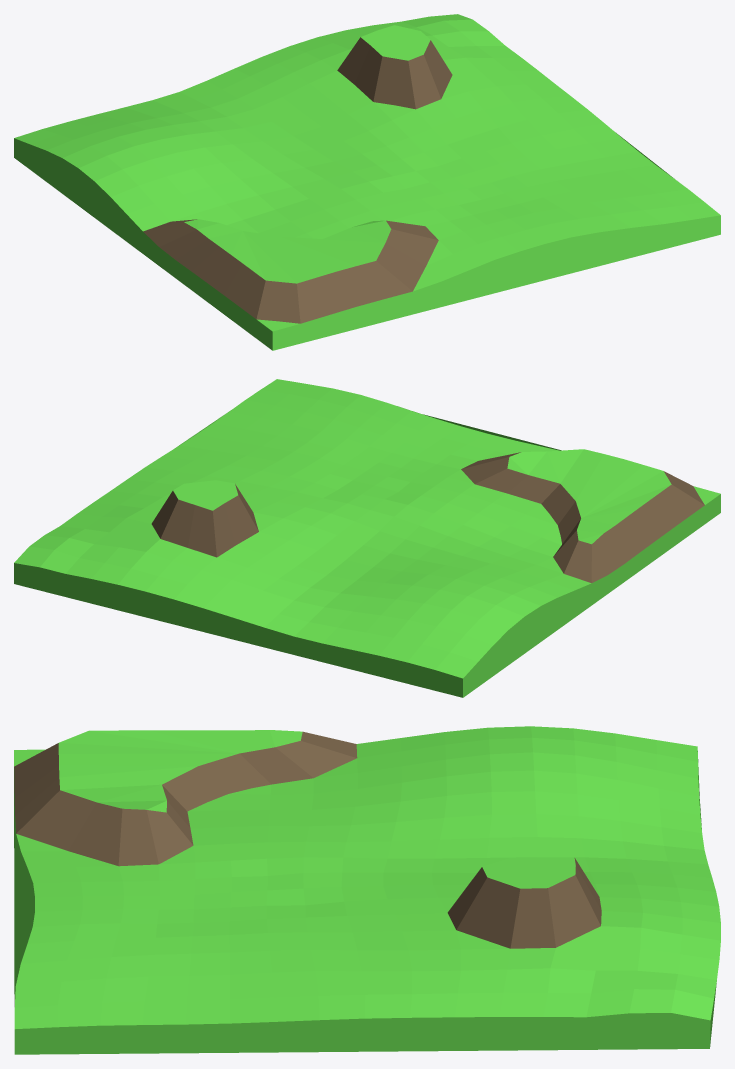
Rendered from RTS_tile_1.glb.
3 views of the same model, one above another, from view 1: azimuth 30°, elevation 25°; view 2: azimuth 150°, elevation 25°; view 3: azimuth 270°, elevation 25° (orthographic). The views are drawn at different scales.
Visible parts, largest first — view 1: Cube; view 2: Cube; view 3: Cube.
Boxes of the visible parts, left/top/right/bottom form: Cube: left=14, top=14, right=720, bottom=350; Cube: left=14, top=379, right=720, bottom=697; Cube: left=14, top=726, right=720, bottom=1054.
Size of the model in its own units: 1.01 by 0.1888 by 1.05.
